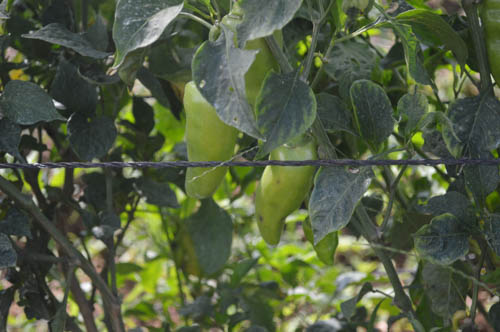ChiliPepper: (178, 82, 237, 213), (222, 10, 288, 105), (258, 149, 312, 250)
